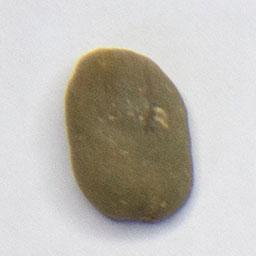premium: (59, 43, 201, 228)
